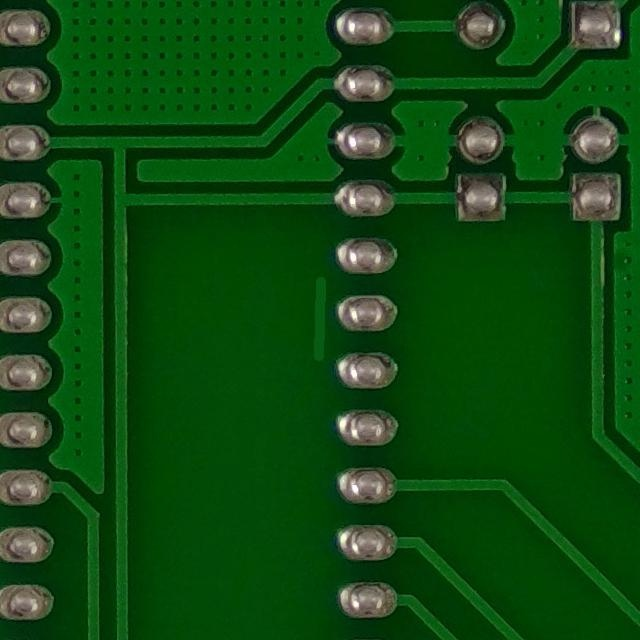spurious_copper: (293, 268, 346, 373)
